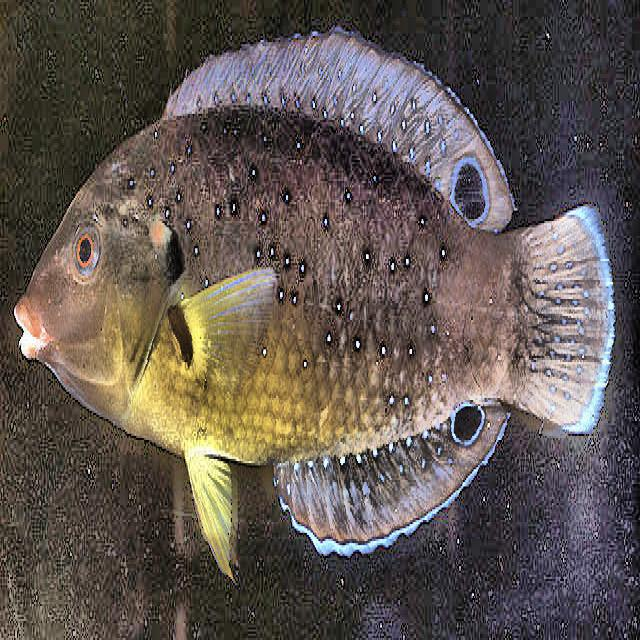fish: (15, 22, 618, 591)
